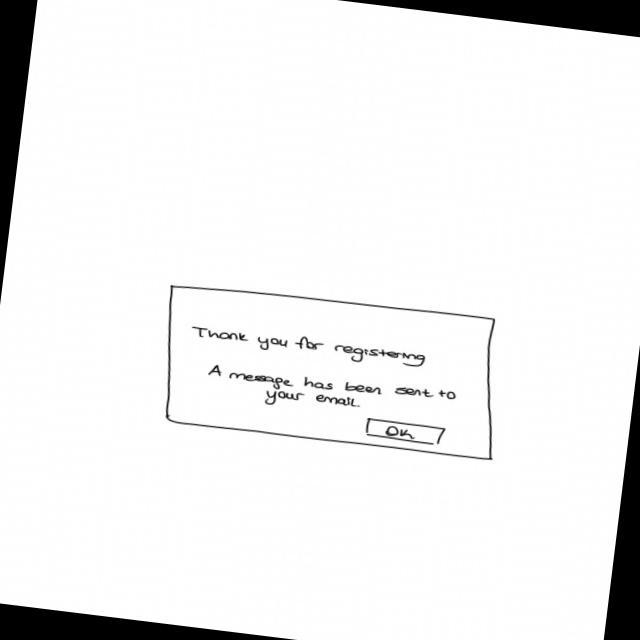button: (363, 416, 448, 448)
container: (153, 279, 513, 464)
label: (205, 360, 460, 430), (189, 323, 429, 374)
